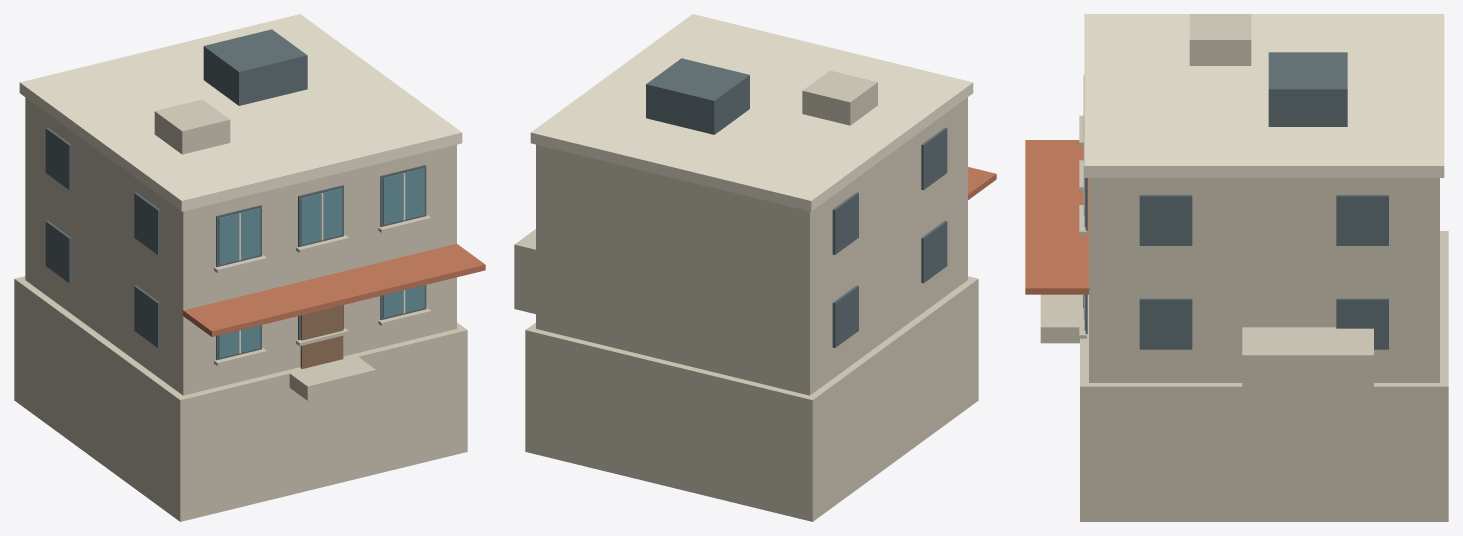
Rendered from stone-1.glb.
3 views of the same model, side by side, from view 1: azimuth 30°, elevation 25°; view 2: azimuth 150°, elevation 25°; view 3: azimuth 270°, elevation 25° (orthographic). The views are drawn at different scales.
Size of the model in its own units: 9.7 by 9.85 by 9.65.
